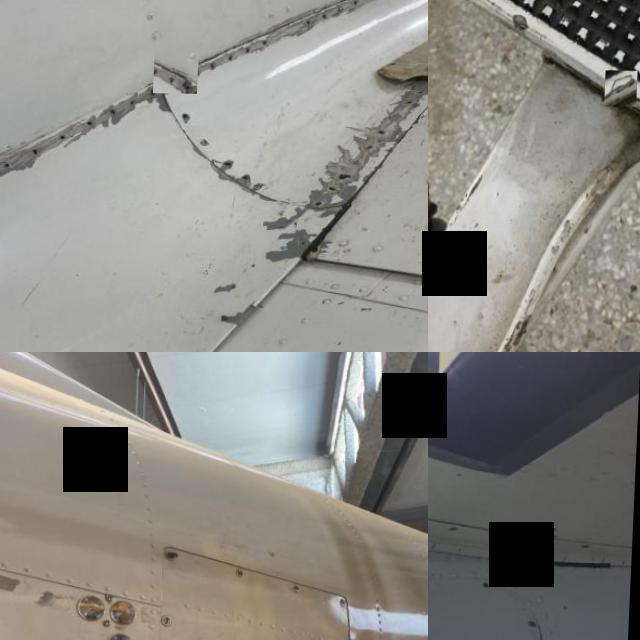Crack: (154, 49, 200, 92), (607, 69, 640, 105)
Missing_Fastener: (509, 534, 521, 541), (486, 580, 496, 588), (3, 162, 15, 168), (130, 98, 138, 106), (261, 38, 270, 45), (150, 89, 158, 96), (32, 149, 41, 155), (88, 120, 96, 126), (210, 62, 218, 68), (244, 46, 252, 52), (183, 112, 191, 118), (379, 128, 387, 134), (418, 89, 426, 95), (451, 526, 462, 530), (61, 134, 68, 140), (317, 200, 325, 205), (228, 54, 235, 59), (305, 19, 312, 24), (322, 13, 329, 18), (331, 186, 339, 190), (352, 0, 359, 4)
